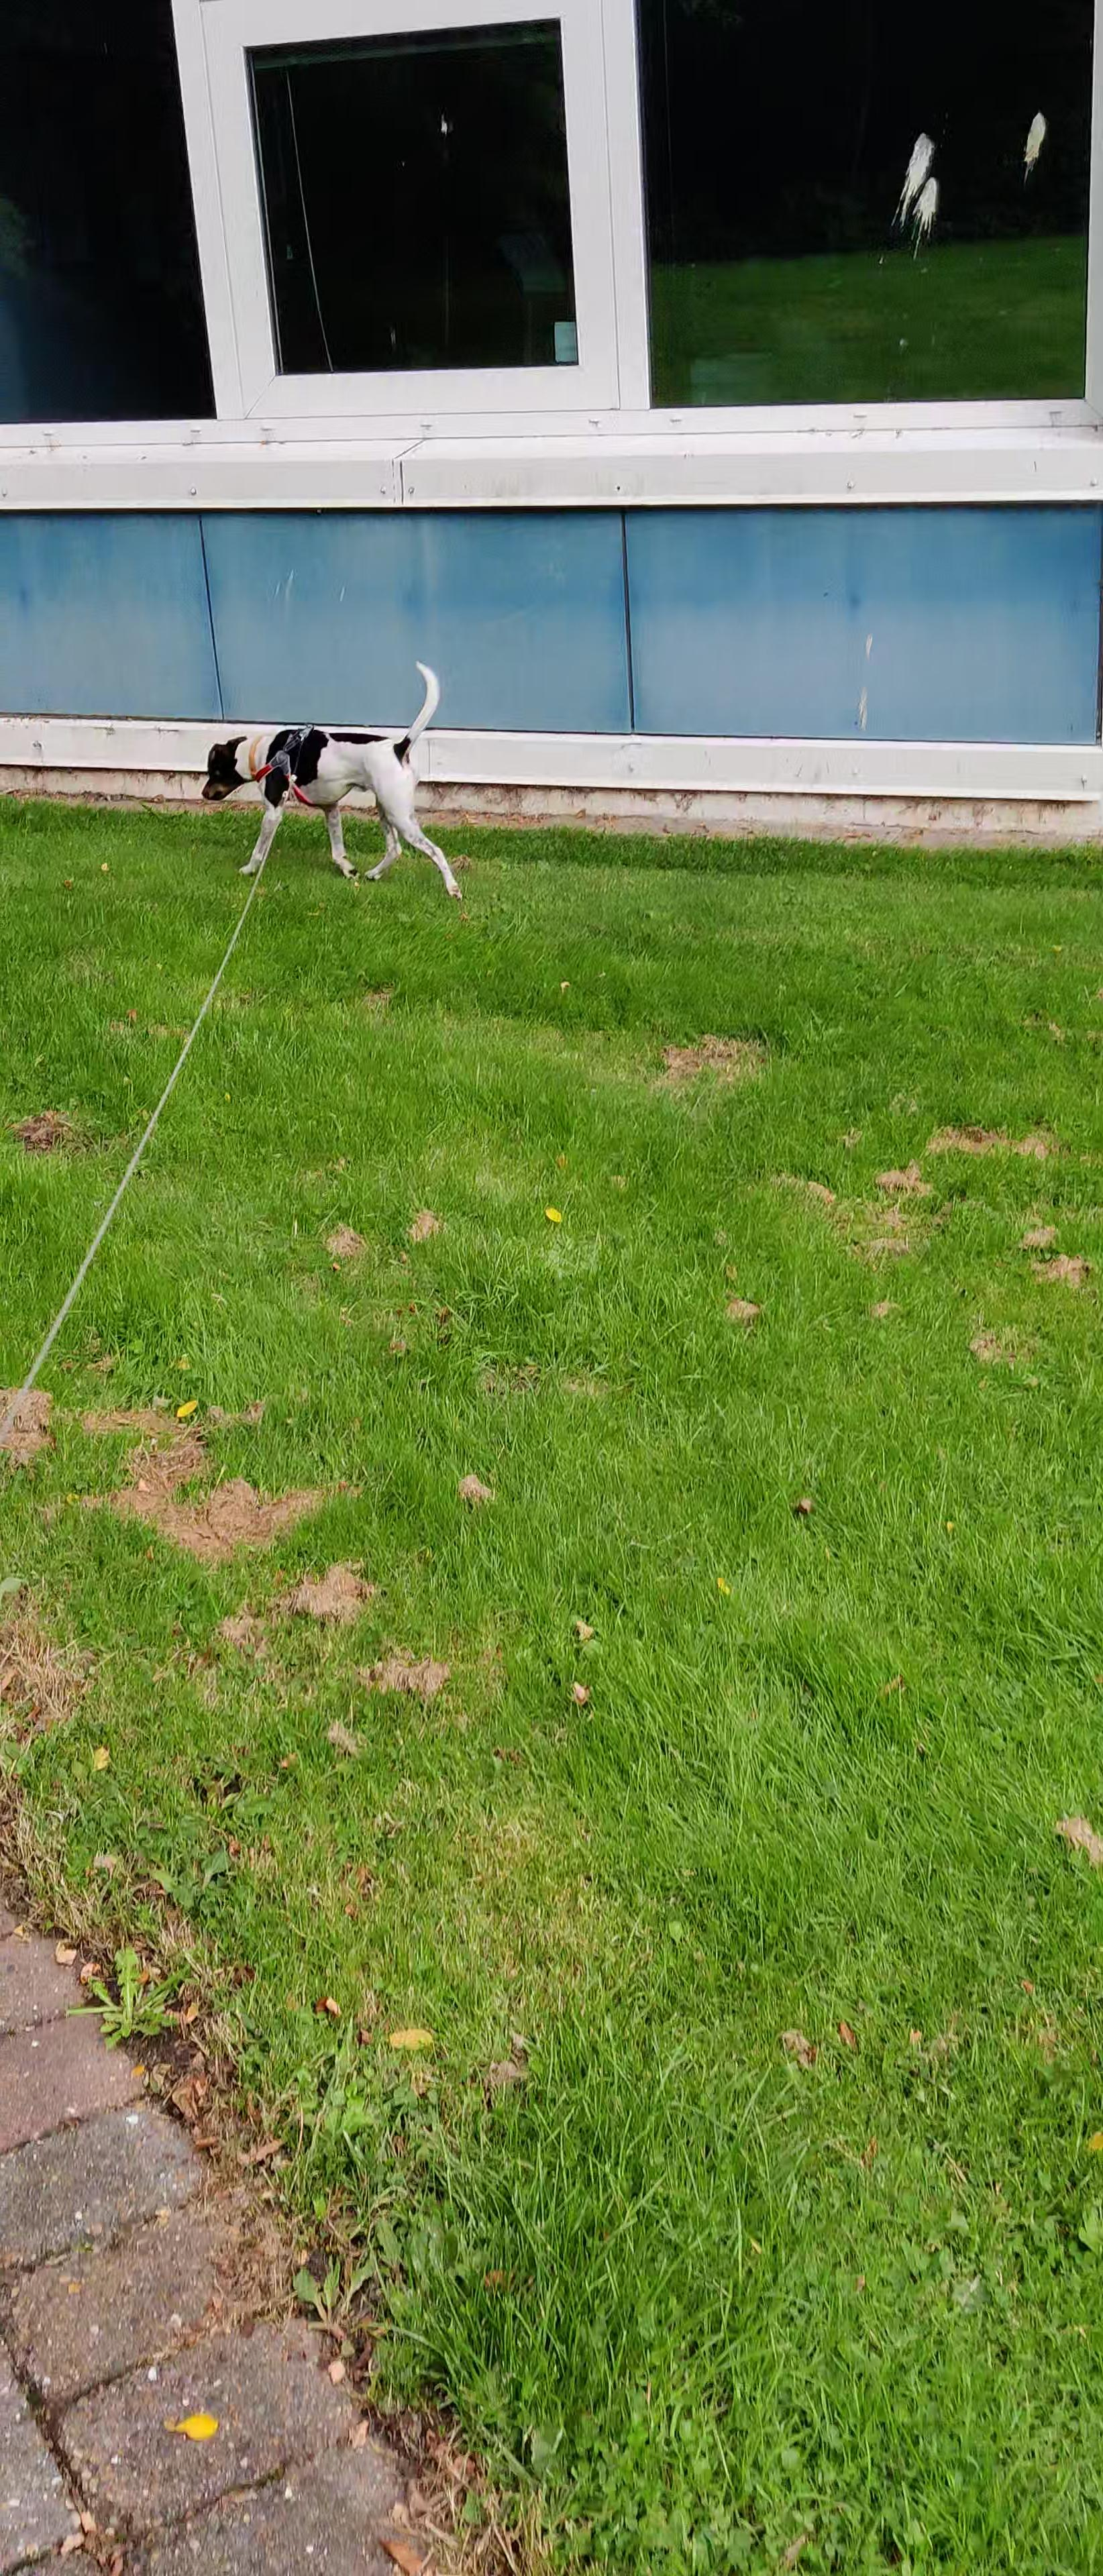Dog: (189, 651, 478, 904)
